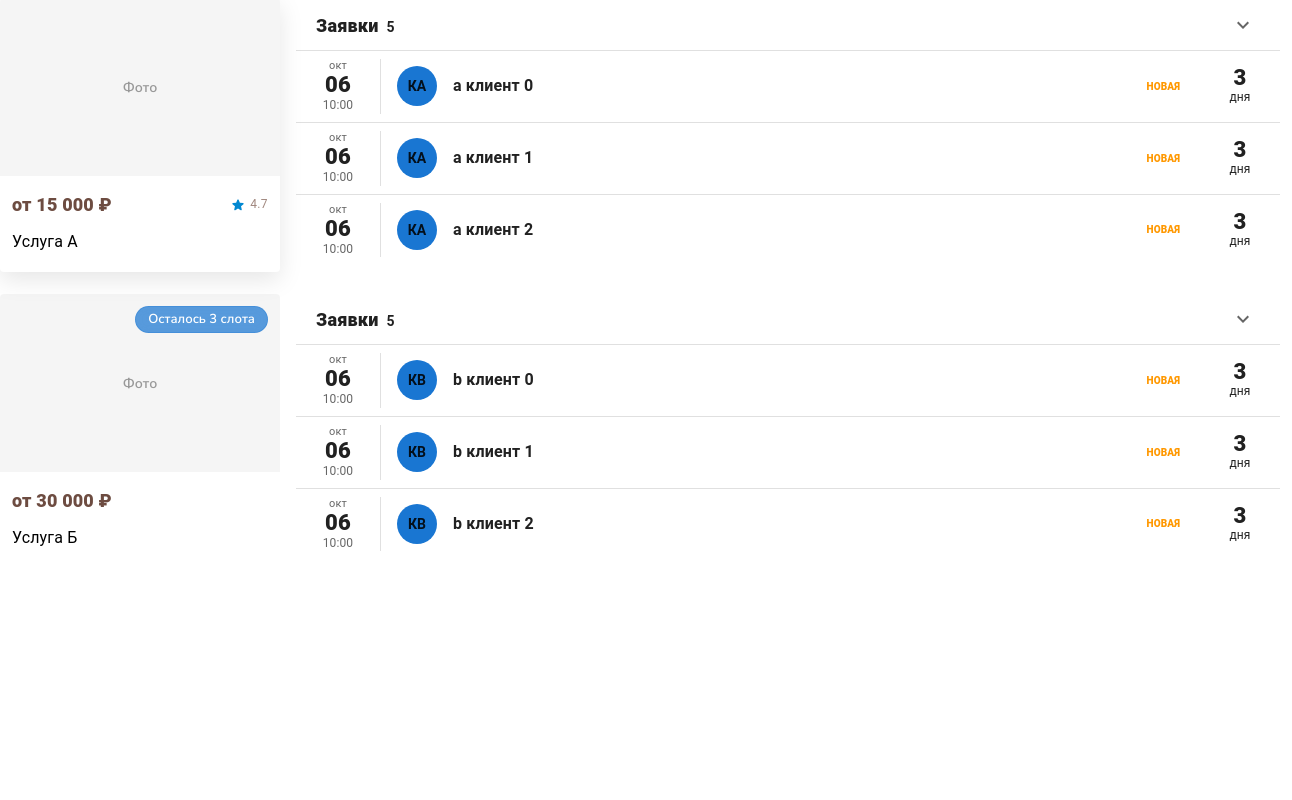
Test case: ProMyServicesSection › разворачивает только один список заявок
Click the 1st button named "Развернуть заявки" at (1243, 25), box [1226, 8, 1260, 42]
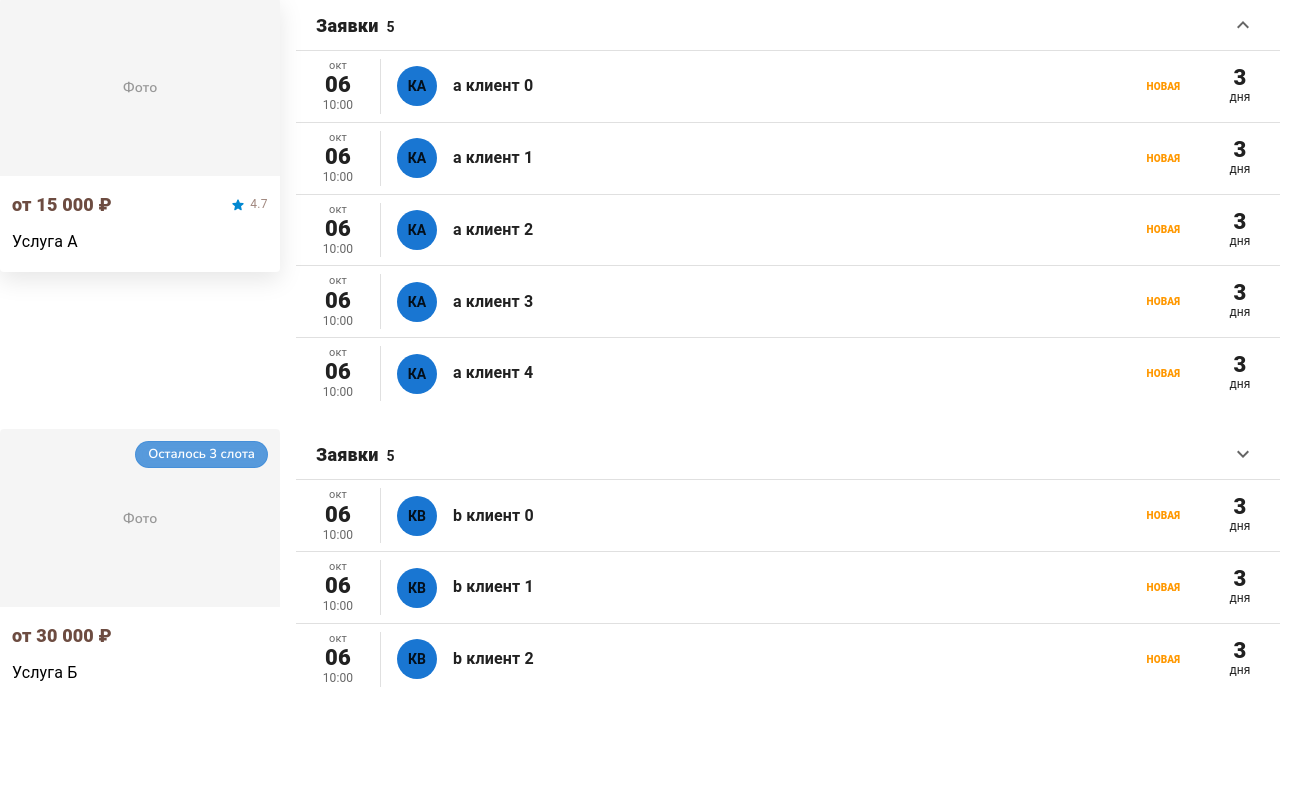
Check: the link "b клиент 4" is not shown
Check: the link "a клиент 4" is shown, box [312, 346, 1264, 401]
Click the button named "Развернуть заявки" at (1243, 454), box [1226, 437, 1260, 471]
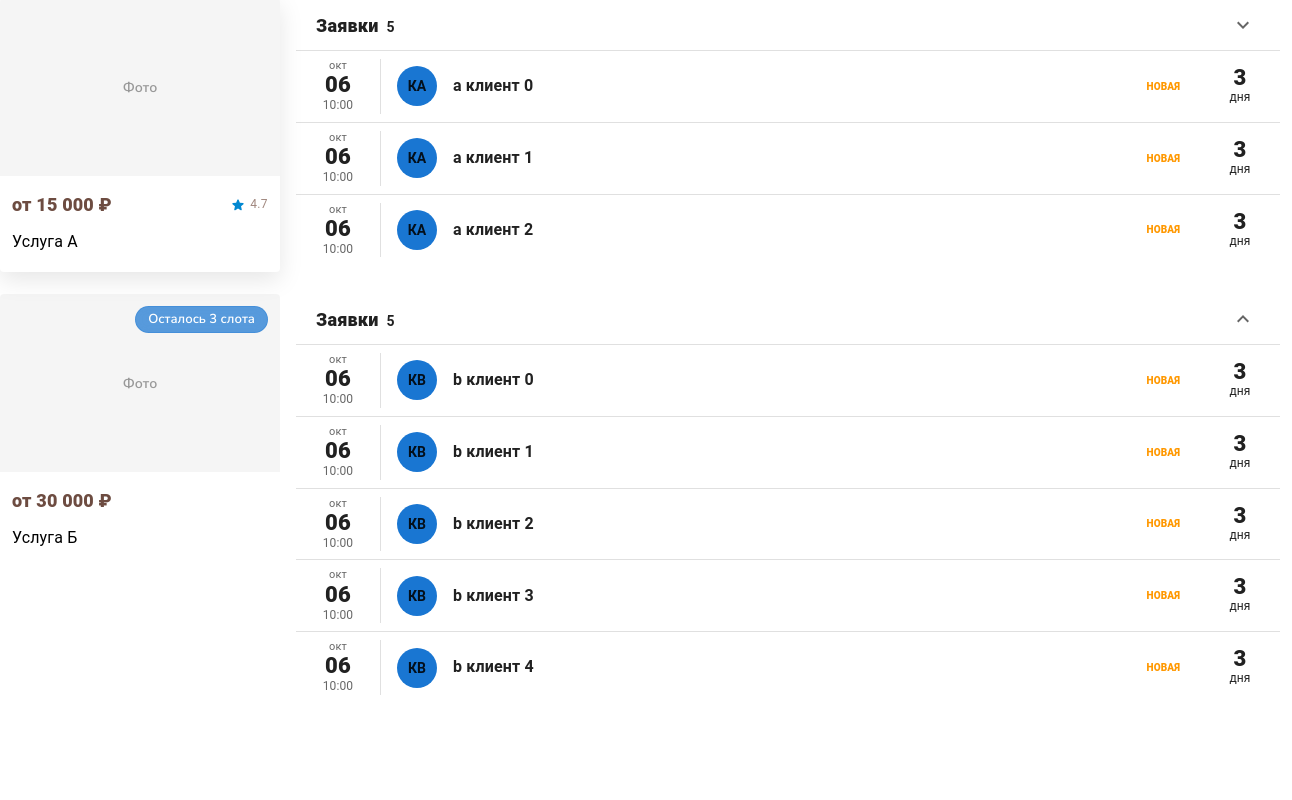
Check: the link "b клиент 4" is shown, box [312, 640, 1264, 695]
Check: the link "a клиент 4" is gone
